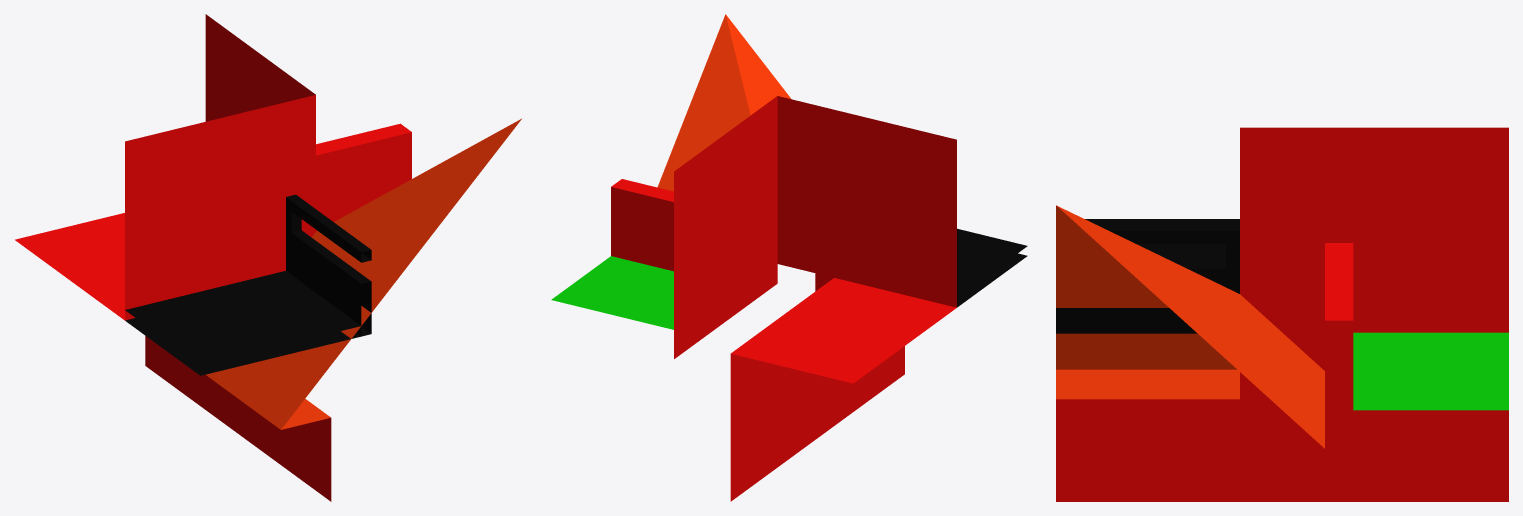
The picture shows the model from 3 angles, left to right: view 1: azimuth 30°, elevation 25°; view 2: azimuth 150°, elevation 25°; view 3: azimuth 270°, elevation 25°; orthographic projection. The views are drawn at different scales.
Visible parts, largest first — view 1: None_W_S_E_E_E_P_A_E_None; view 2: None_W_S_E_E_E_P_A_E_None; view 3: None_W_S_E_E_E_P_A_E_None.
Boxes of the visible parts, x1,y1,x2,y2 form: None_W_S_E_E_E_P_A_E_None: (15,14,521,501); None_W_S_E_E_E_P_A_E_None: (551,14,1027,501); None_W_S_E_E_E_P_A_E_None: (1056,127,1508,501).
Bounding box in the file's own units: 100 × 100 × 100.
